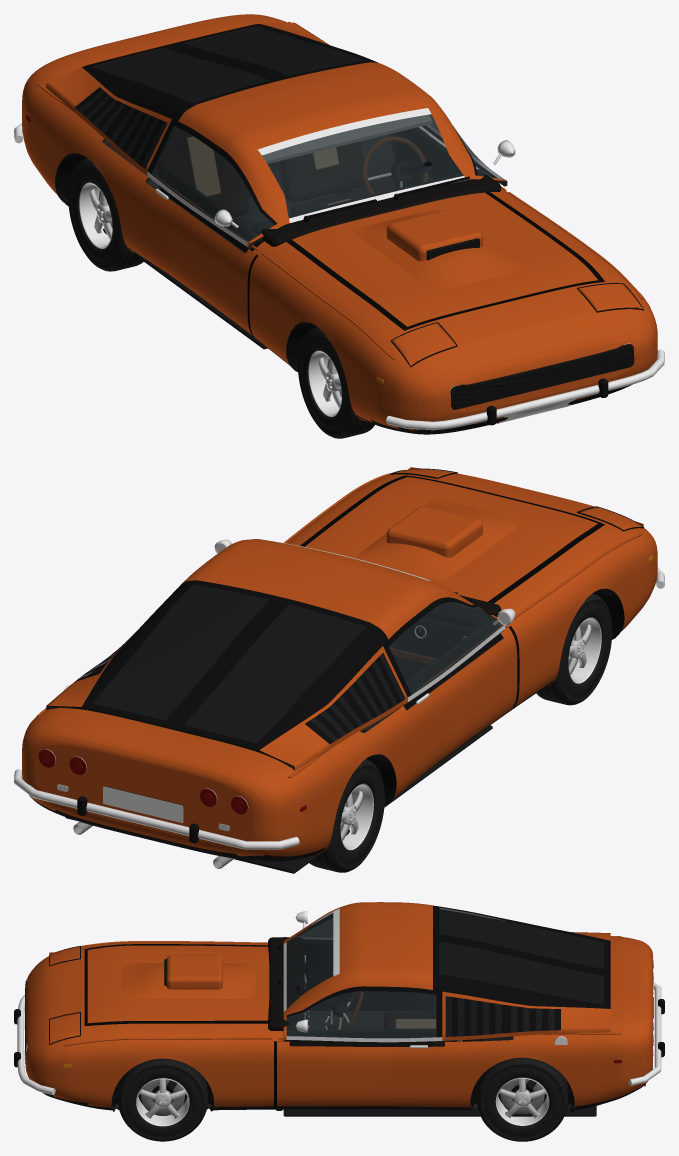
File: ventura_gt.glb
3 renders of one model, top to bottom at view 1: azimuth 30°, elevation 25°; view 2: azimuth 150°, elevation 25°; view 3: azimuth 270°, elevation 25°, orthographic. The views are drawn at different scales.
Parts seen in each view (by area): view 1: ventura_gt, door_R, hood, hatch, wheel_RR, hood_bulge, wheel_FR, hood_scoop, door_L, popup_R, popup_L, steering_wheel; view 2: ventura_gt, hatch, door_R, hood, wheel_RR, wheel_FR, hood_bulge, hood_scoop, popup_R; view 3: ventura_gt, door_L, hatch, hood, wheel_RL, wheel_FL, door_R, hood_bulge, hood_scoop, popup_L, steering_wheel, popup_R.
Boxes of the visible parts, x1=… form: ventura_gt: x1=14, y1=14, x2=664, y2=434; door_R: x1=141, y1=119, x2=277, y2=335; hood: x1=292, y1=192, x2=597, y2=326; hatch: x1=82, y1=24, x2=378, y2=121; wheel_RR: x1=68, y1=158, x2=143, y2=271; hood_bulge: x1=352, y1=209, x2=523, y2=290; wheel_FR: x1=298, y1=327, x2=374, y2=438; hood_scoop: x1=386, y1=210, x2=482, y2=261; door_L: x1=396, y1=114, x2=515, y2=190; popup_R: x1=390, y1=322, x2=457, y2=367; popup_L: x1=577, y1=283, x2=643, y2=312; steering_wheel: x1=362, y1=136, x2=427, y2=194; ventura_gt: x1=14, y1=472, x2=664, y2=873; hatch: x1=82, y1=580, x2=388, y2=752; door_R: x1=383, y1=597, x2=517, y2=785; hood: x1=305, y1=477, x2=597, y2=601; wheel_RR: x1=309, y1=759, x2=384, y2=872; wheel_FR: x1=536, y1=593, x2=612, y2=705; hood_bulge: x1=356, y1=499, x2=520, y2=581; hood_scoop: x1=386, y1=506, x2=482, y2=557; popup_R: x1=577, y1=506, x2=644, y2=531; ventura_gt: x1=14, y1=902, x2=664, y2=1116; door_L: x1=277, y1=986, x2=442, y2=1106; hatch: x1=433, y1=905, x2=610, y2=1008; hood: x1=87, y1=945, x2=269, y2=1023; wheel_RL: x1=476, y1=1057, x2=568, y2=1141; wheel_FL: x1=118, y1=1058, x2=207, y2=1141; door_R: x1=287, y1=911, x2=435, y2=1010; hood_bulge: x1=121, y1=963, x2=255, y2=998; hood_scoop: x1=164, y1=955, x2=222, y2=989; popup_L: x1=49, y1=1012, x2=80, y2=1044; steering_wheel: x1=333, y1=991, x2=363, y2=1029; popup_R: x1=49, y1=946, x2=80, y2=966.
Bounding box in the file's own units: 1.91 × 1.25 × 4.62.
43 materials, 6 textured.
